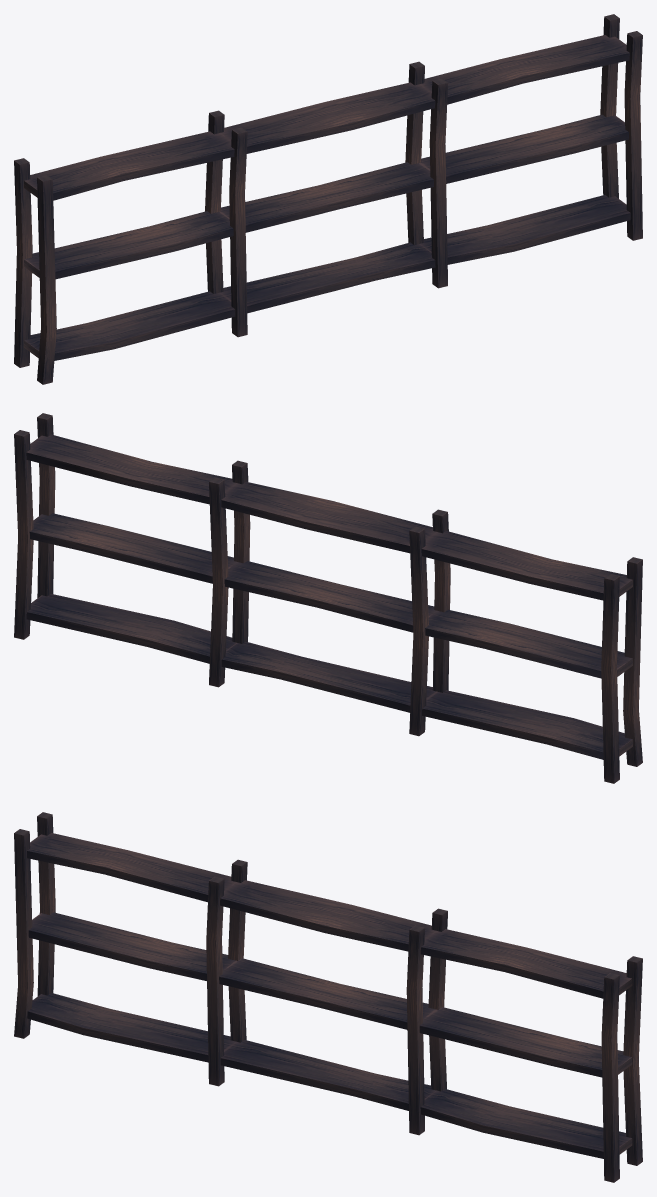
File: Shelf_D.fbx
3 renders of one model, top to bottom at view 1: azimuth 30°, elevation 25°; view 2: azimuth 150°, elevation 25°; view 3: azimuth 330°, elevation 25°, orthographic.
Parts seen in each view (by area): view 1: Shelf_D; view 2: Shelf_D; view 3: Shelf_D.
Boxes of the visible parts, box(x1,y1,x2,y2) form: Shelf_D: box(14, 14, 642, 384); Shelf_D: box(14, 413, 642, 783); Shelf_D: box(14, 812, 642, 1182).
Bounding box in the file's own units: 1.88 × 0.608 × 0.1629.
